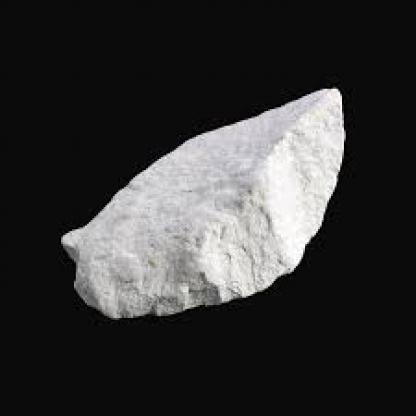Sedimentary_Chalk: (48, 72, 350, 316)
